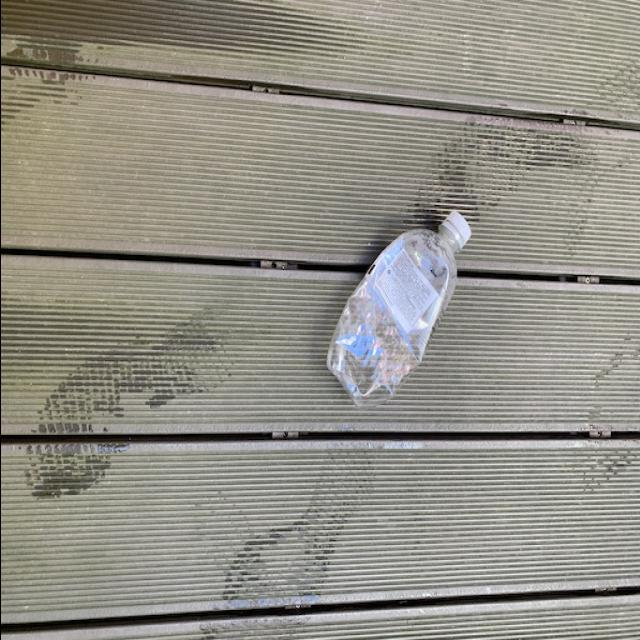PET: (322, 209, 468, 415)
